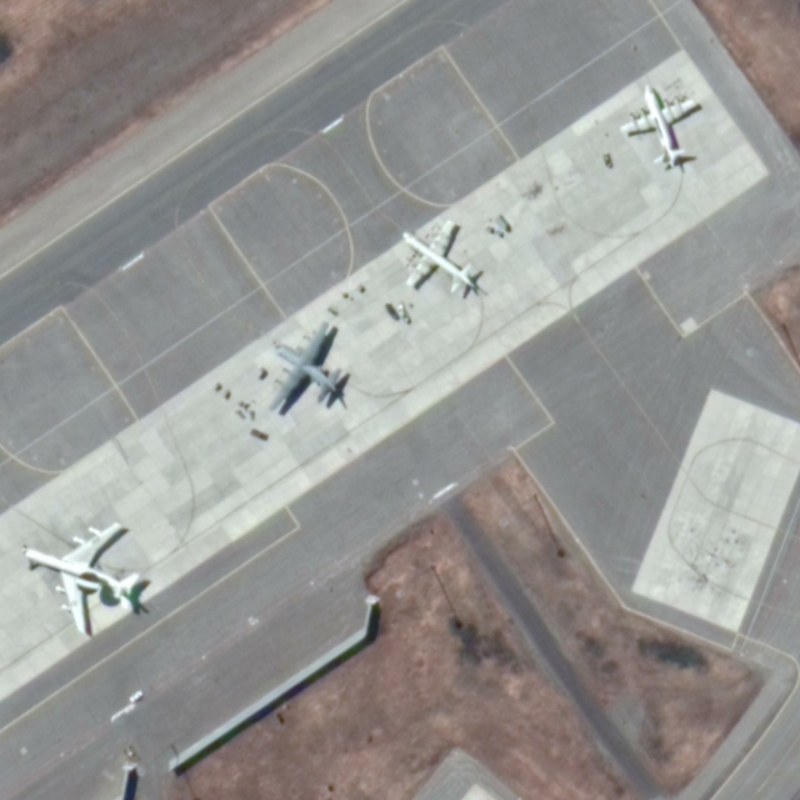A2: (264, 312, 357, 415)
A7: (11, 516, 158, 645)
A9: (613, 76, 713, 174), (398, 216, 493, 308), (277, 234, 279, 238)
